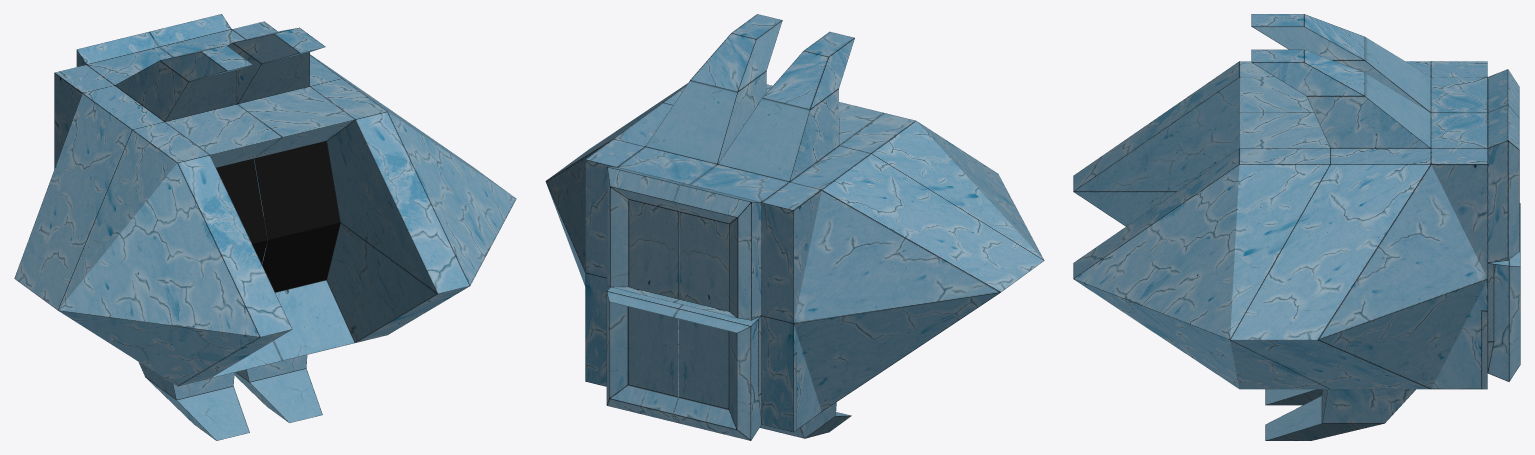
File: EnemyCraftVer2-b.obj
3 renders of one model, left to right at view 1: azimuth 30°, elevation 25°; view 2: azimuth 150°, elevation 25°; view 3: azimuth 270°, elevation 25°, orthographic.
Visible parts, largest first — view 1: Cube; view 2: Cube; view 3: Cube.
Boxes of the visible parts, box(x1,y1,x2,y2) form: Cube: box(14, 14, 516, 440); Cube: box(545, 14, 1044, 440); Cube: box(1073, 14, 1520, 440).
Bounding box in the file's own units: 4.29 × 3.35 × 3.61.
